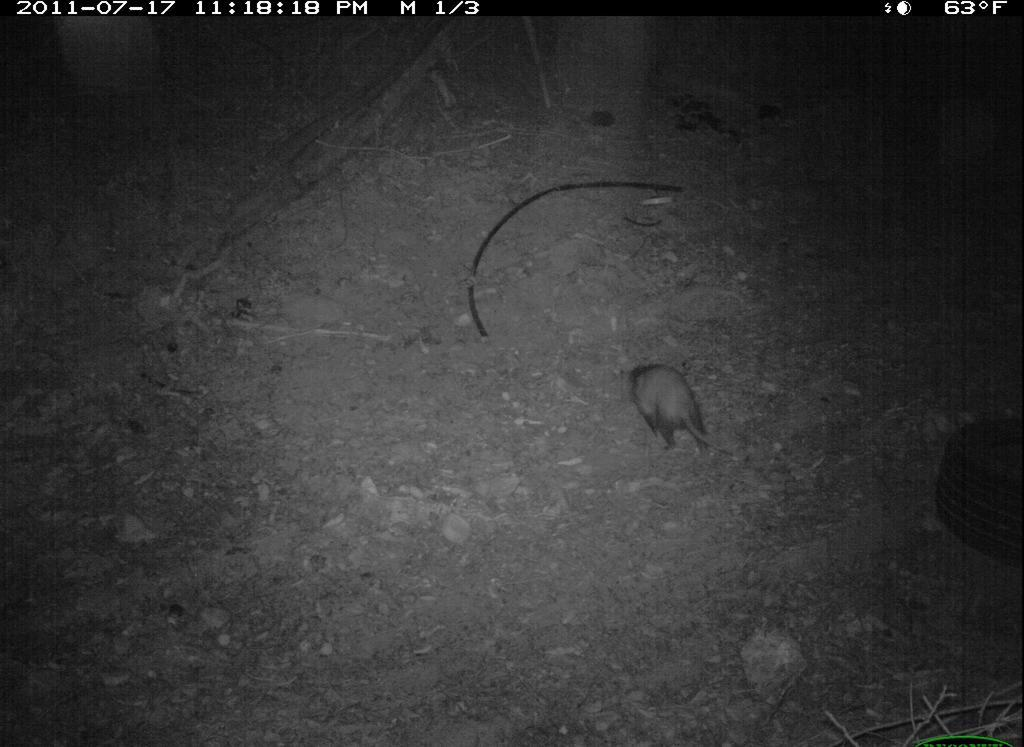opossum: (616, 346, 735, 463)
